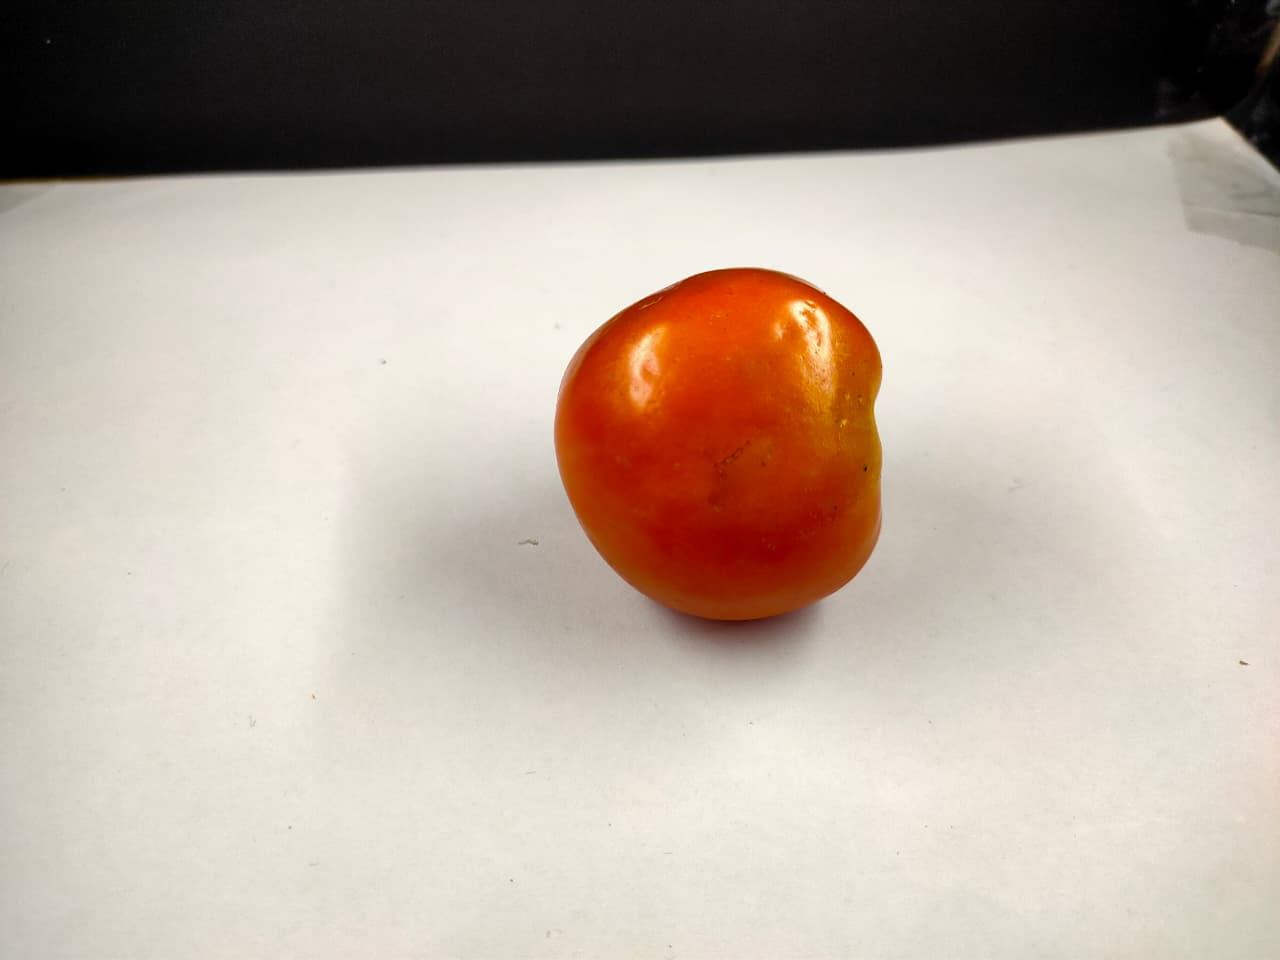unripe: (551, 265, 901, 651)
